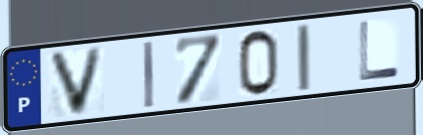0: (236, 28, 282, 98)
7: (173, 31, 224, 107)
I: (294, 22, 314, 94), (140, 39, 156, 111)
L: (356, 19, 403, 84)
V: (45, 45, 107, 119)
